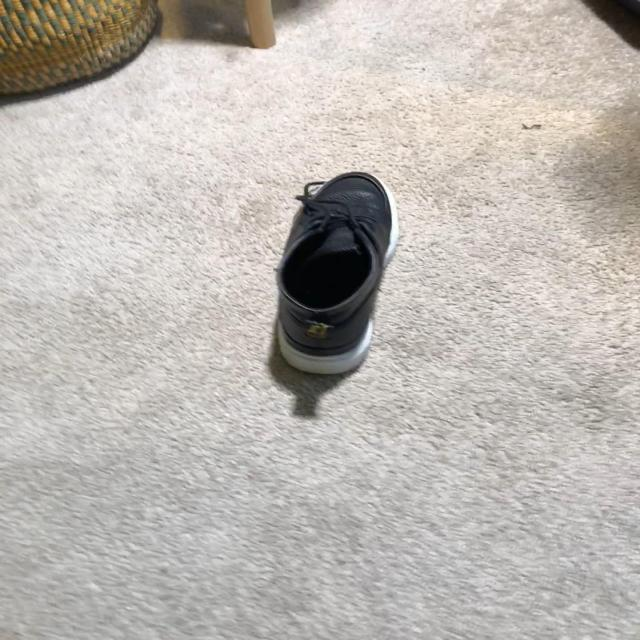shoe: (273, 172, 401, 381)
